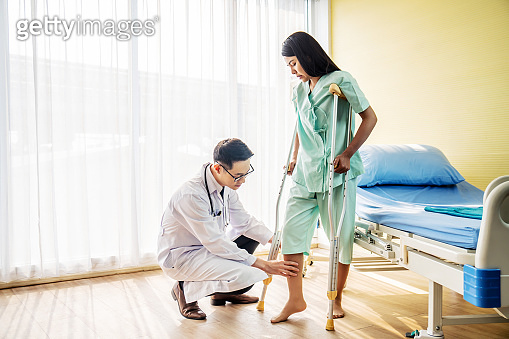crutches: (255, 32, 377, 333)
